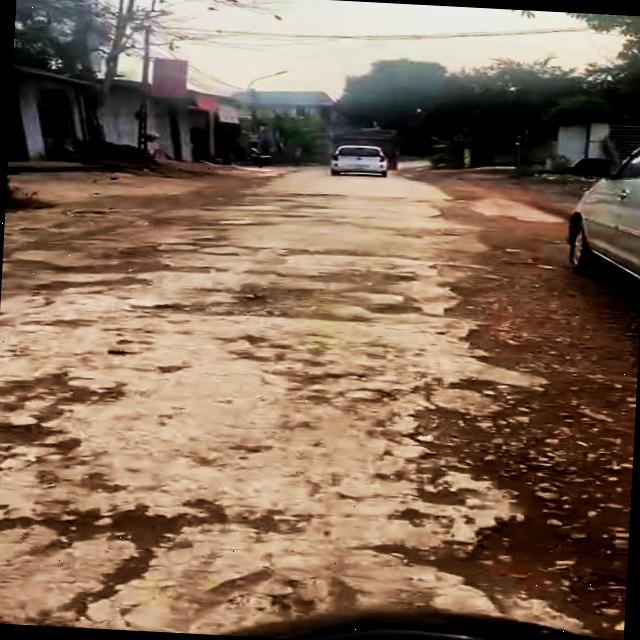pothole: (0, 489, 267, 632), (379, 502, 630, 640), (380, 369, 565, 514), (133, 272, 424, 330), (0, 364, 133, 486)
